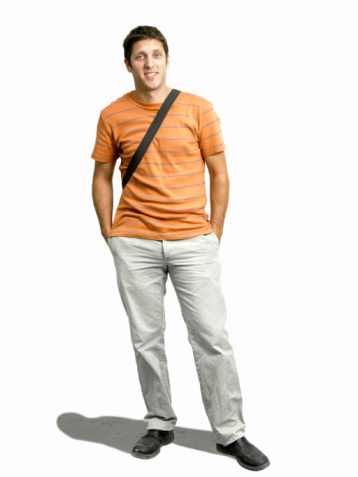em pe: (77, 14, 249, 473)
